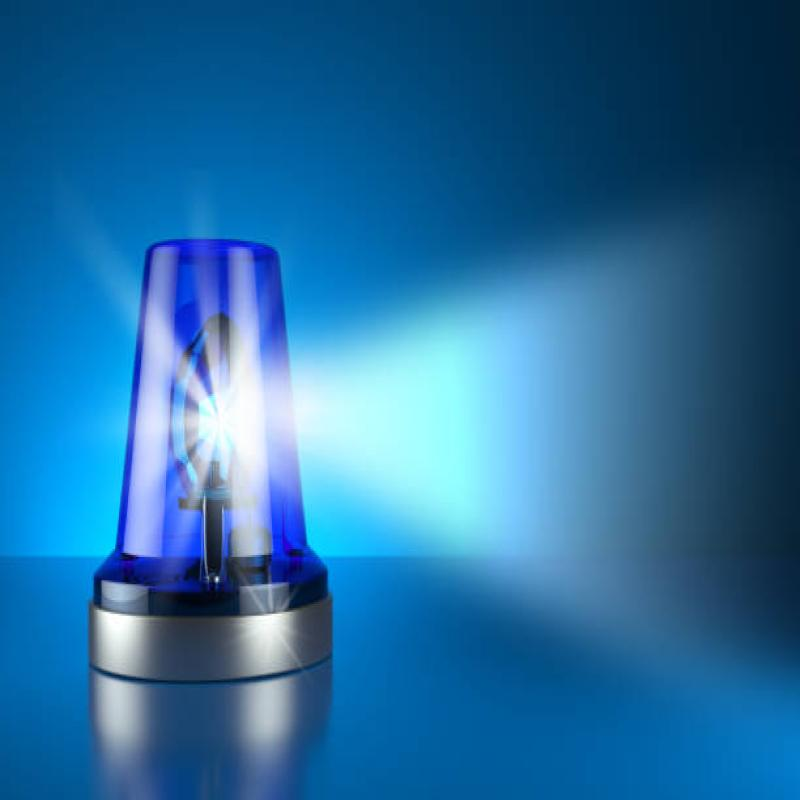AmbulanceSiren: (112, 182, 352, 761)
